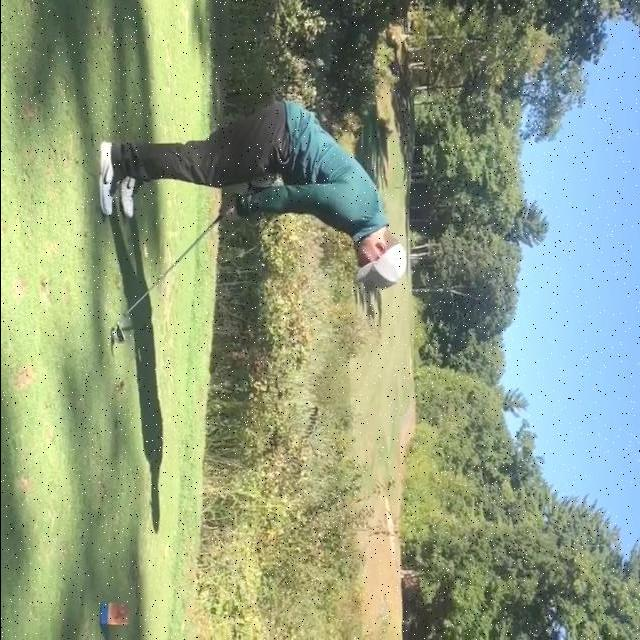ClubHandle: (112, 215, 221, 344)
ClubHead: (111, 322, 124, 344)
